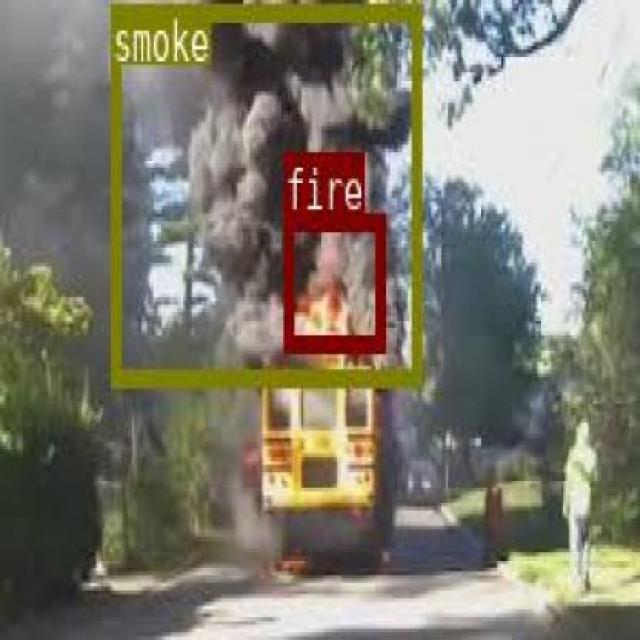Fire: (282, 212, 384, 351)
Smoke: (110, 3, 418, 382)
